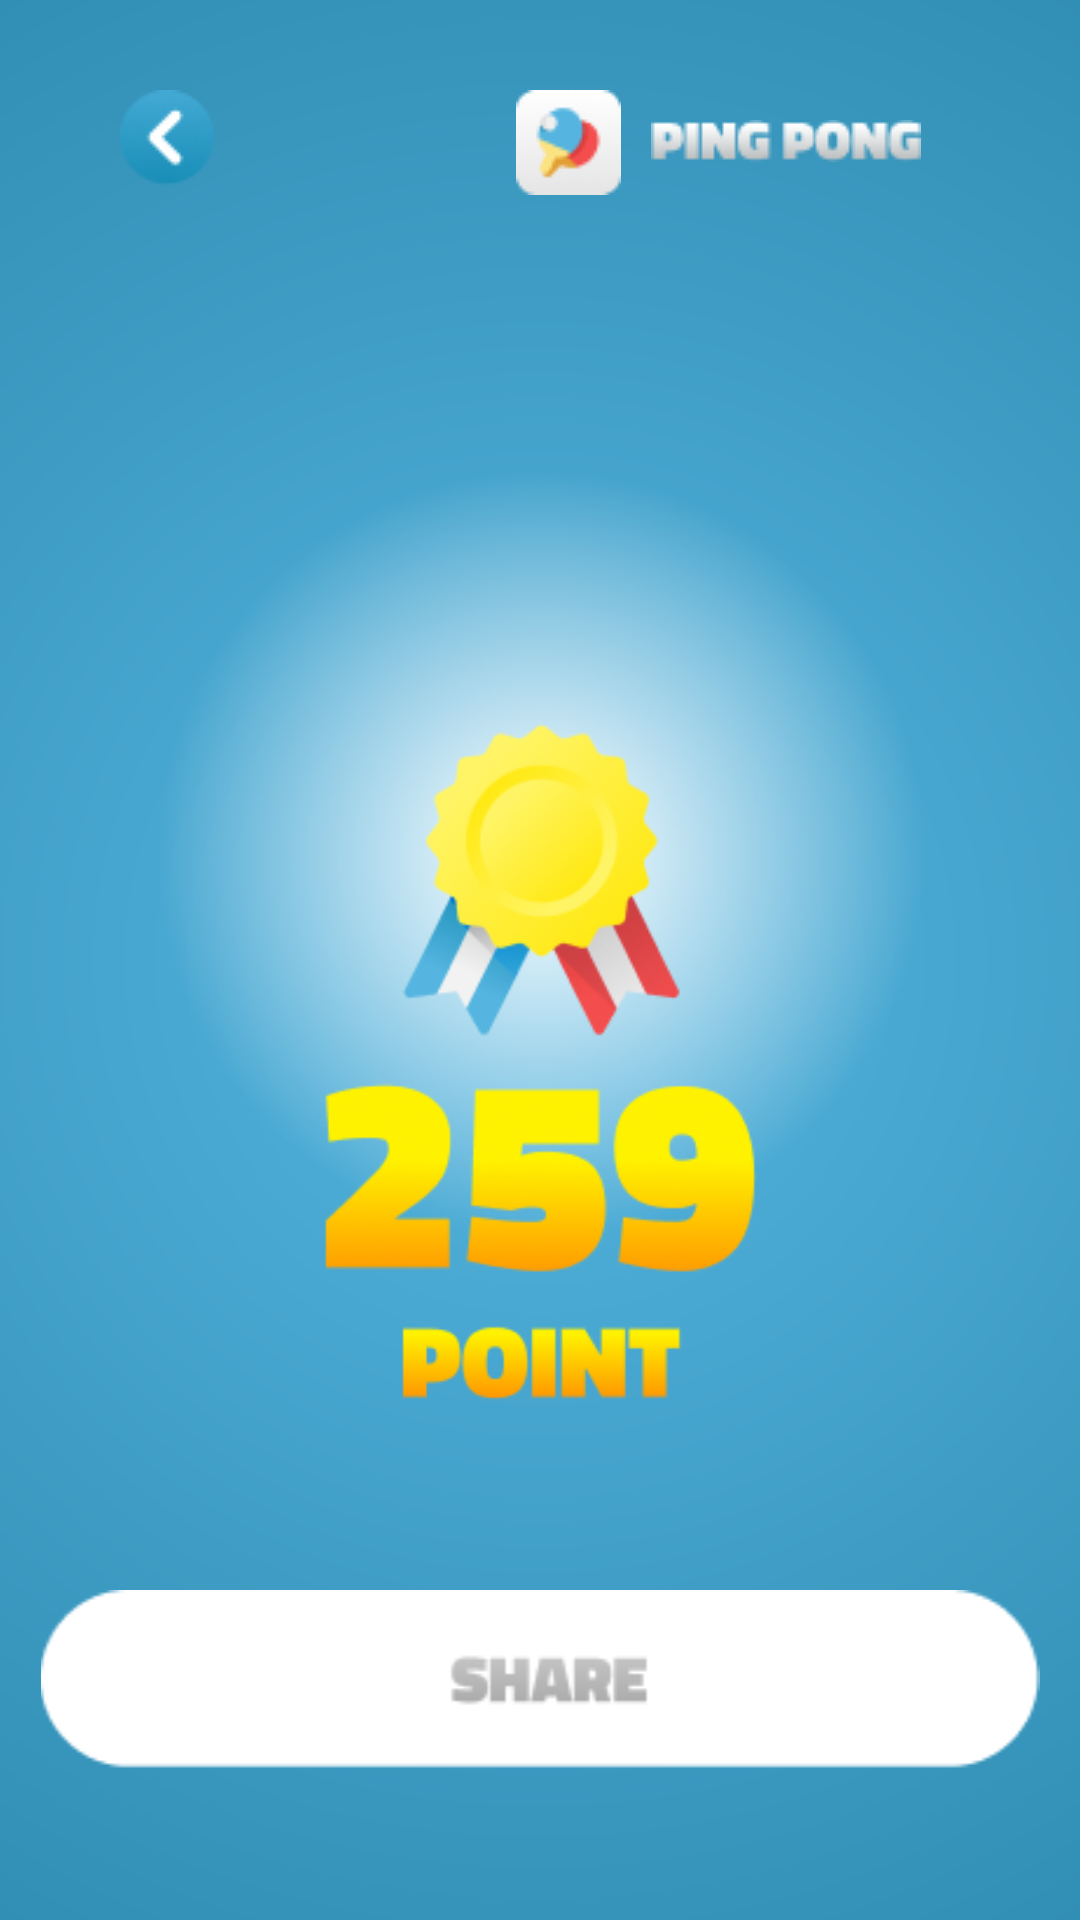

Screen size 1080 x 1920. Icon name, then its center in pixels as [x,y]:
game previous: [166,137]
game rackets: [568,142]
